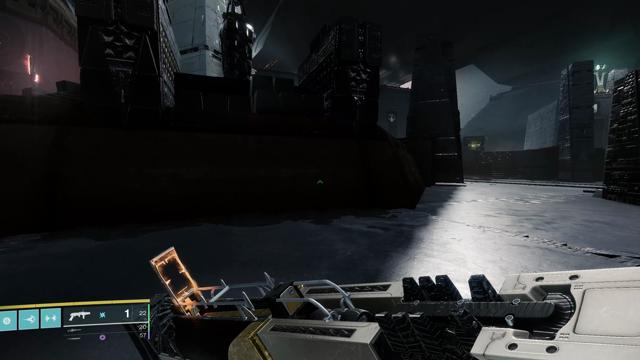drink: (387, 113, 397, 122)
